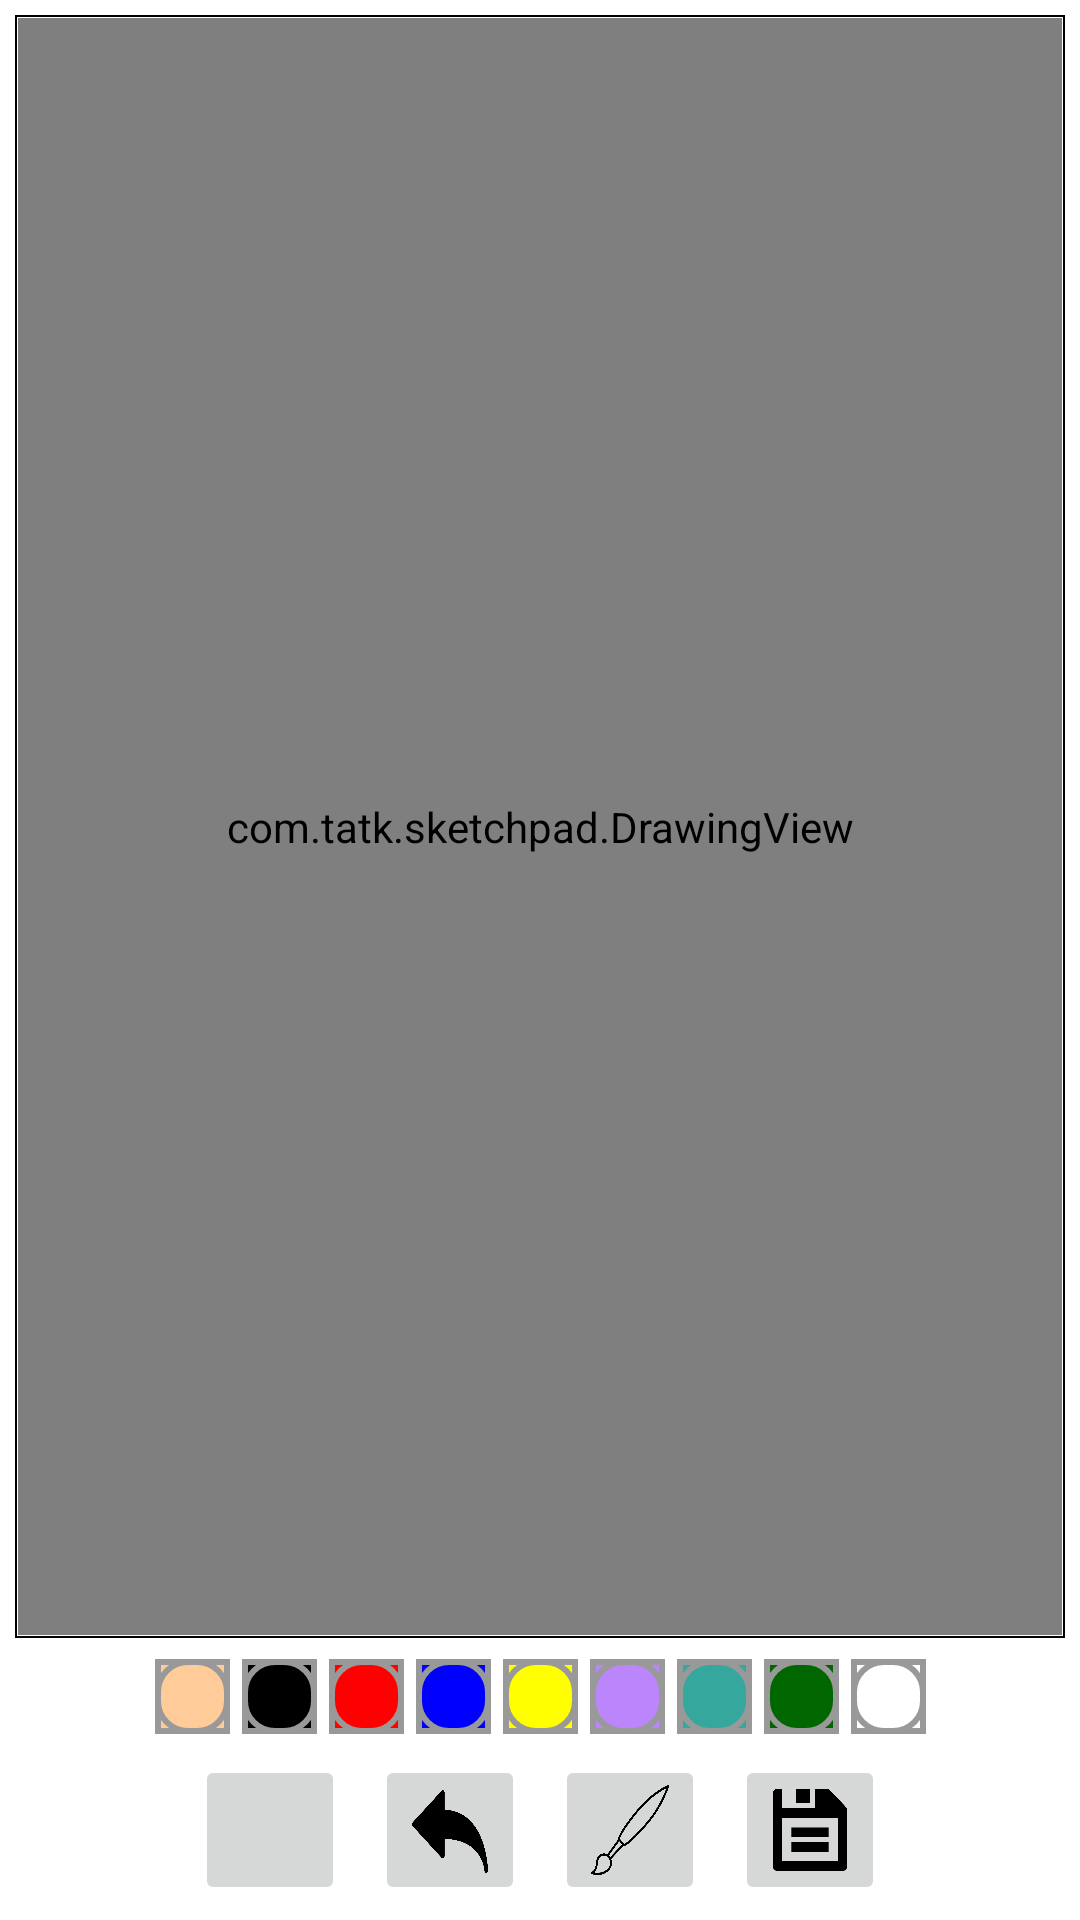

Point at icon controls on the screen. Image size 1080*1920, points as (x=x, y=y).
brush: (x=630, y=1830)
Save Icon: (x=810, y=1830)
Undo Icon: (x=450, y=1830)
